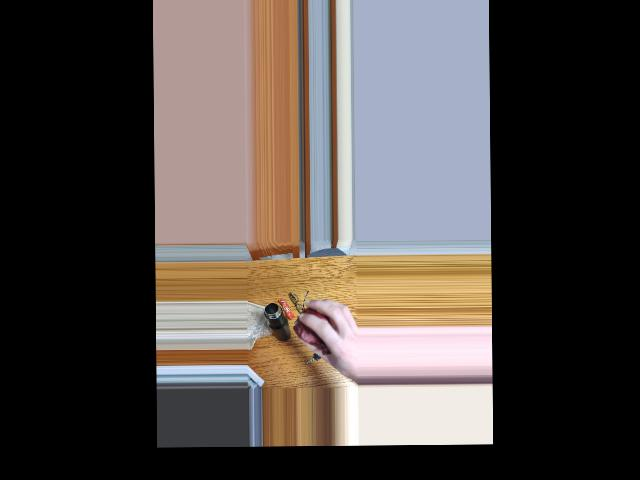onion: (298, 308, 332, 343)
